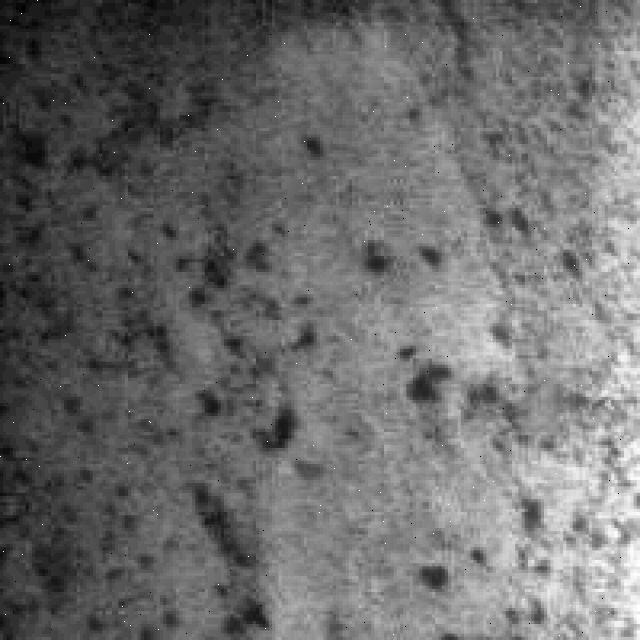Rolled_in_Scale: (396, 180, 598, 614), (173, 188, 320, 634)
